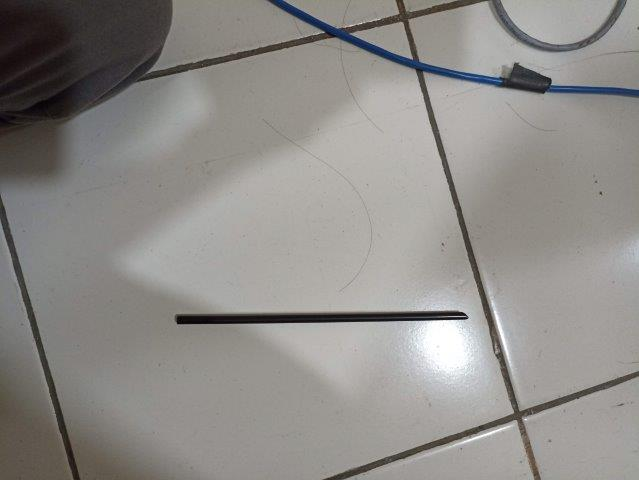sedotan: (177, 312, 468, 324)
